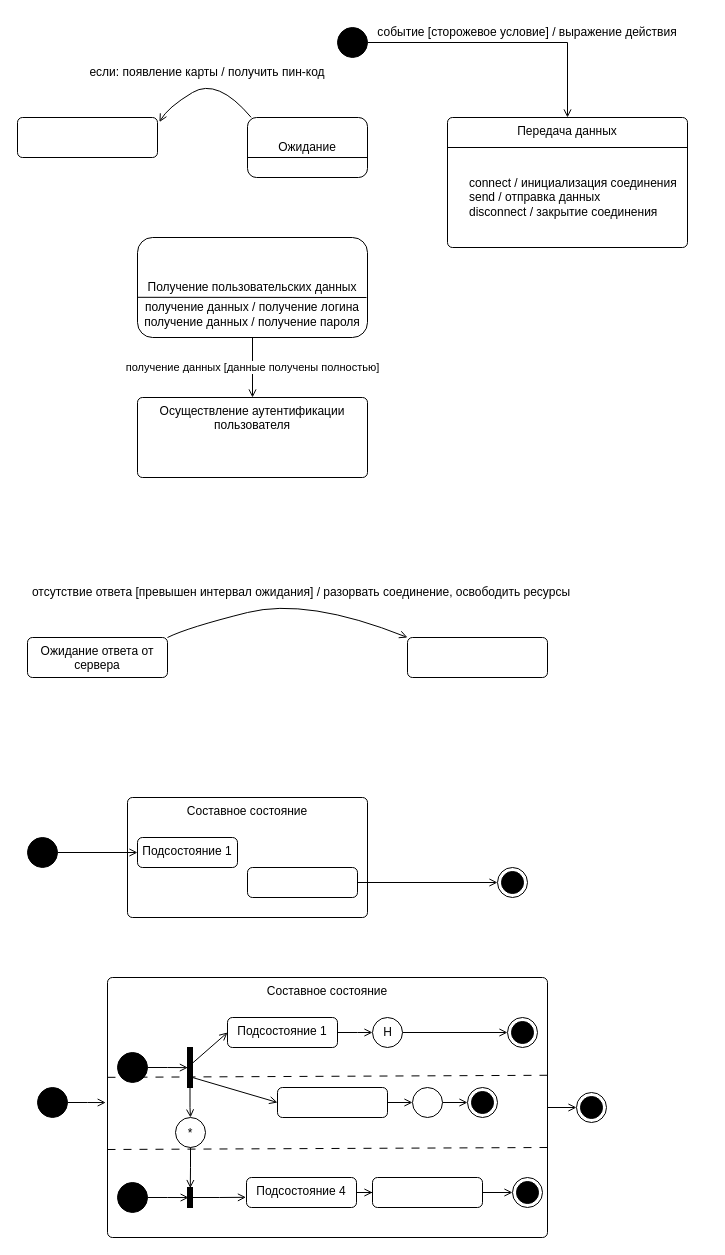
This 725x1255 diagram has some shape labels left out. Here are the shapes that lost their labels. From the top down, the centre of each, then its label:
At point (87, 137): "Получение пин-кода".
At point (477, 657): "Переход в автономный режим".
At point (302, 882): "Подсостояние 2".
At point (332, 1102): "Подсостояние 3".
At point (427, 1102): "H*".
At point (427, 1192): "Подсостояние 5".
